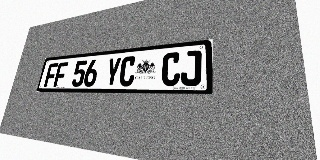5: (71, 60, 87, 87)
6: (83, 59, 99, 87)
C: (161, 52, 181, 86), (118, 56, 137, 86)
F: (53, 62, 68, 87), (44, 63, 58, 87)
J: (180, 50, 202, 86)
Y: (104, 57, 122, 87)
